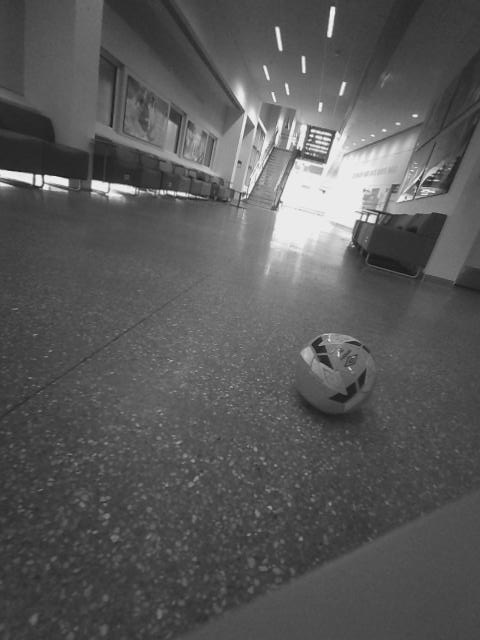ball: (255, 273, 311, 328)
